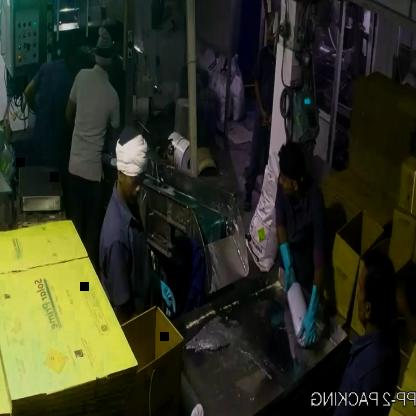glove: (291, 278, 331, 355), (137, 265, 179, 320), (272, 241, 305, 299)
